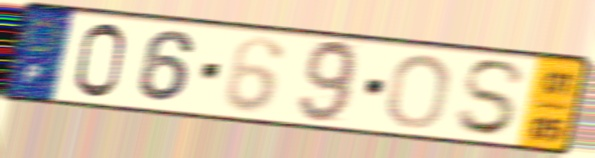0: (73, 20, 127, 100)
6: (221, 34, 287, 116), (136, 28, 197, 106)
9: (293, 37, 361, 128)
O: (383, 52, 454, 131)
S: (453, 58, 530, 139)
